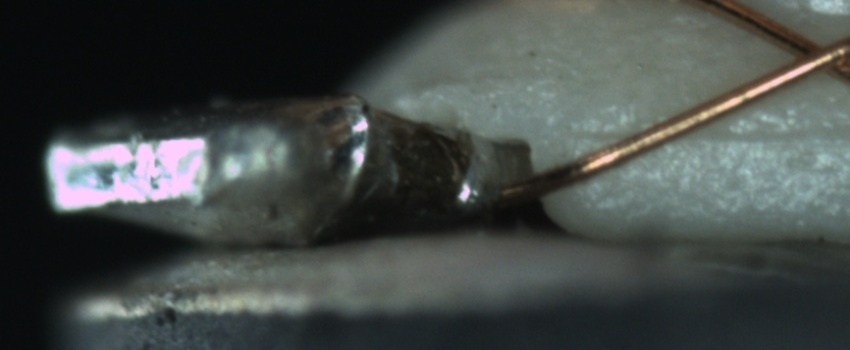CL: (767, 23, 848, 87)
DL: (570, 105, 850, 169)
